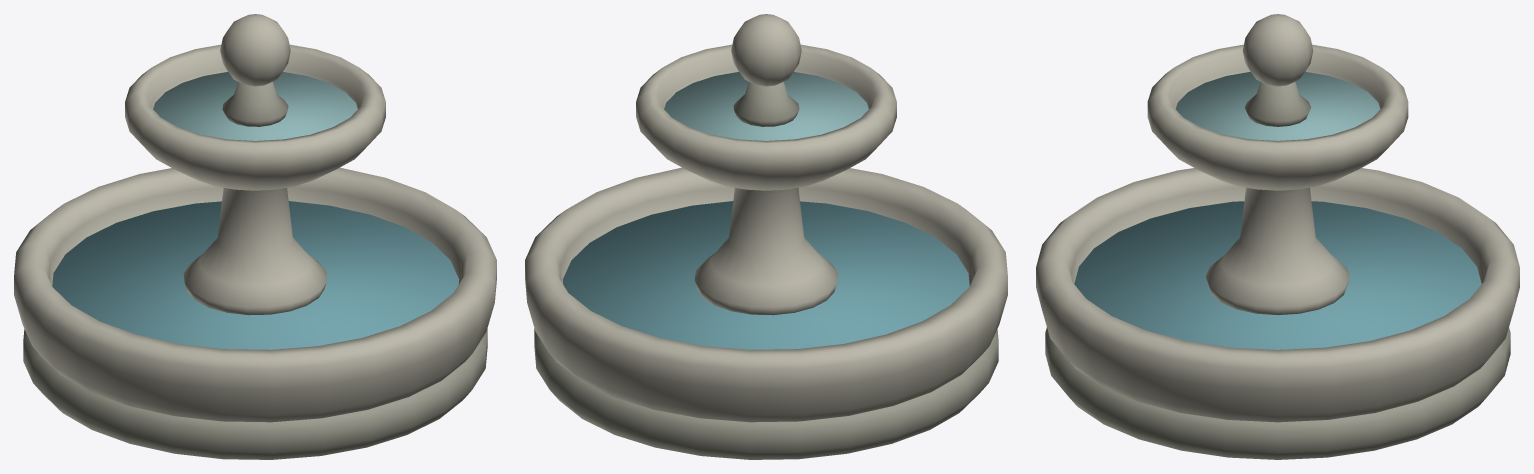
Rendered from deco_fountain.glb.
3 views of the same model, side by side, from view 1: azimuth 30°, elevation 25°; view 2: azimuth 150°, elevation 25°; view 3: azimuth 270°, elevation 25° (orthographic).
Visible parts, largest first — view 1: deco_fountain; view 2: deco_fountain; view 3: deco_fountain.
Part boxes in pixels (x1,y1,x2,y2): deco_fountain: [14, 14, 496, 459]; deco_fountain: [525, 14, 1007, 459]; deco_fountain: [1036, 14, 1519, 459].
Bounding box in the file's own units: 1.21 × 0.994 × 1.21.
